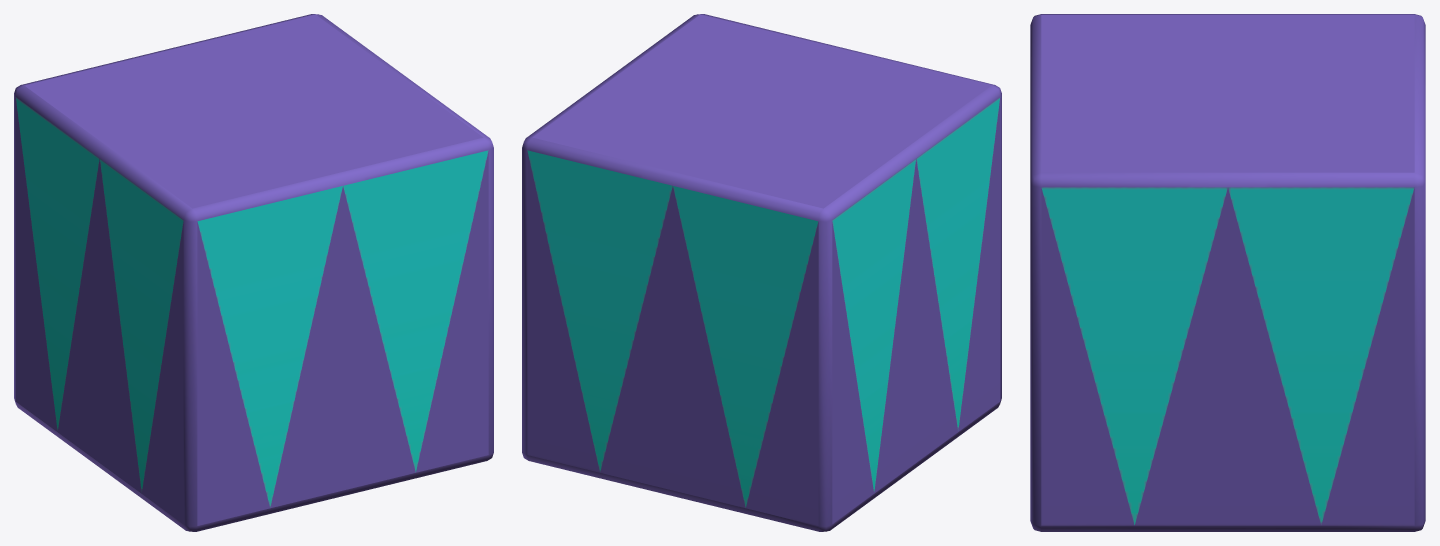
The model's file is Item_RigidBlock.fbx.
3 views of the same model, side by side, from view 1: azimuth 30°, elevation 25°; view 2: azimuth 150°, elevation 25°; view 3: azimuth 270°, elevation 25° (orthographic). The views are drawn at different scales.
Visible parts, largest first — view 1: Item_RigidBlock; view 2: Item_RigidBlock; view 3: Item_RigidBlock.
Boxes of the visible parts, bbox=[...] form: Item_RigidBlock: bbox=[14, 14, 493, 531]; Item_RigidBlock: bbox=[522, 14, 1001, 531]; Item_RigidBlock: bbox=[1030, 14, 1425, 531].
Bounding box in the file's own units: 100 × 100 × 100.
